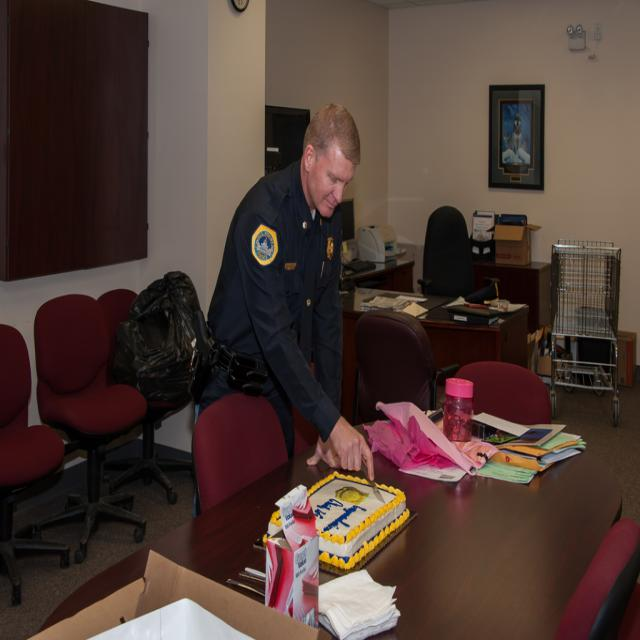chair: (33, 294, 149, 562), (0, 323, 71, 605), (353, 312, 457, 426), (192, 392, 288, 514), (555, 517, 640, 638), (415, 206, 494, 300), (456, 360, 552, 432)
desk: (38, 420, 623, 639)
person: (201, 102, 371, 475)
